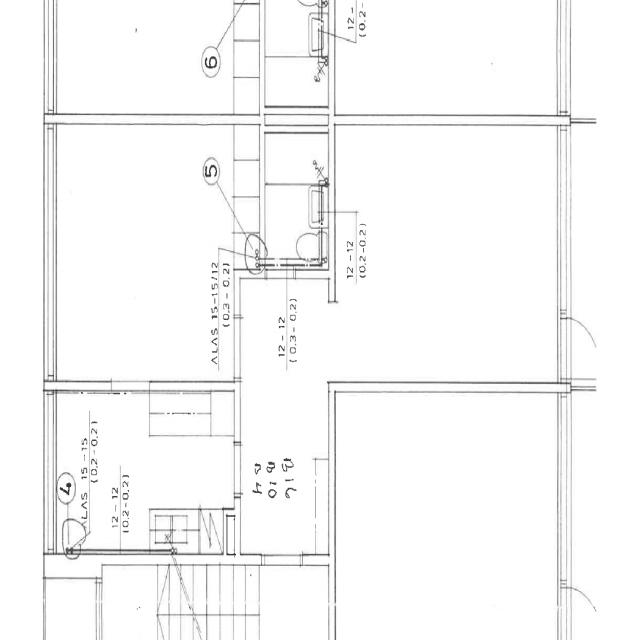door: (558, 319, 606, 377), (264, 553, 301, 624)
